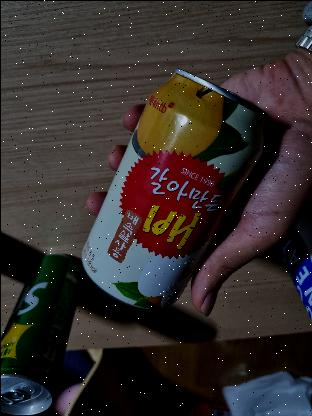Can: (80, 68, 266, 310), (0, 254, 82, 415)
